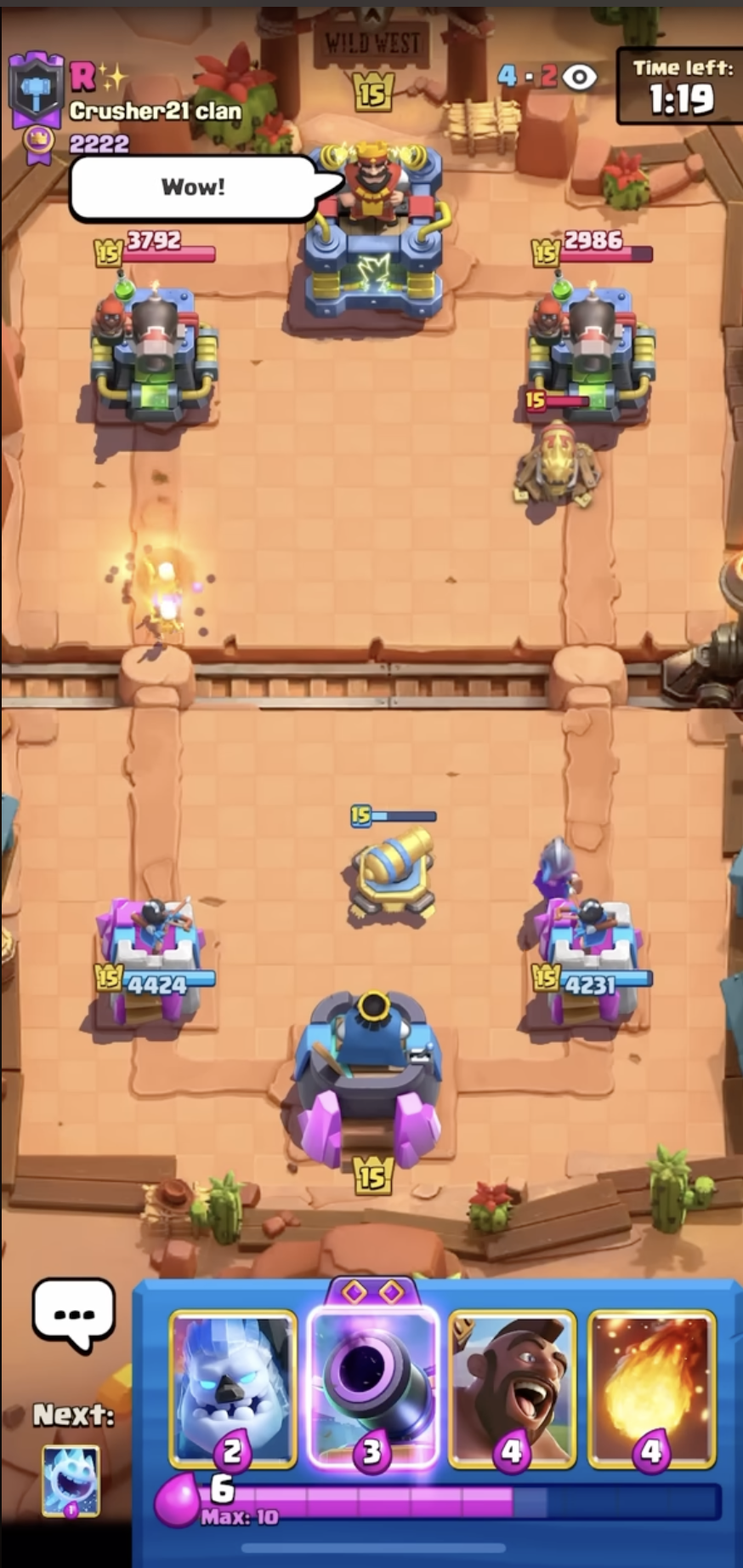cannon: (346, 789, 454, 935)
evo_musketeer: (524, 817, 588, 928)
skeletons: (142, 587, 194, 656), (130, 553, 186, 611)
